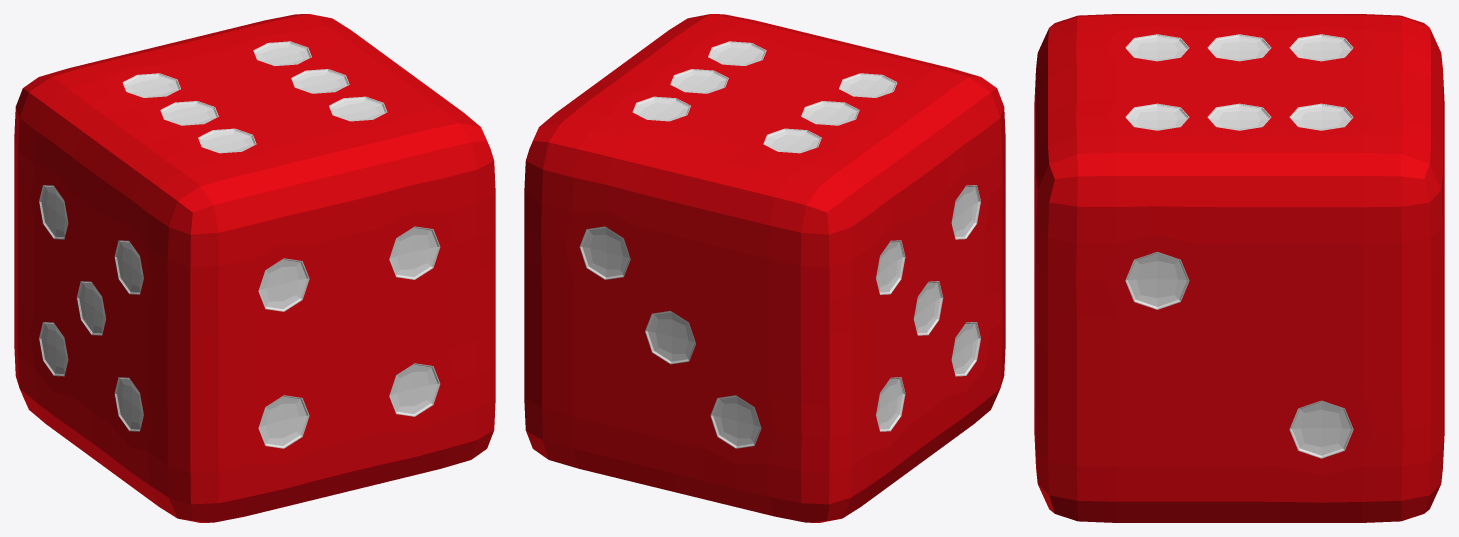
Rendered from DiceMesh.glb.
3 views of the same model, side by side, from view 1: azimuth 30°, elevation 25°; view 2: azimuth 150°, elevation 25°; view 3: azimuth 270°, elevation 25° (orthographic). The views are drawn at different scales.
Parts seen in each view (by area): view 1: Cube.001; view 2: Cube.001; view 3: Cube.001.
Part boxes in pixels (left/top/right/bottom): Cube.001: left=14, top=14, right=495, bottom=522; Cube.001: left=524, top=14, right=1005, bottom=522; Cube.001: left=1034, top=14, right=1444, bottom=522.
Size of the model in its own units: 2 by 2 by 2.
